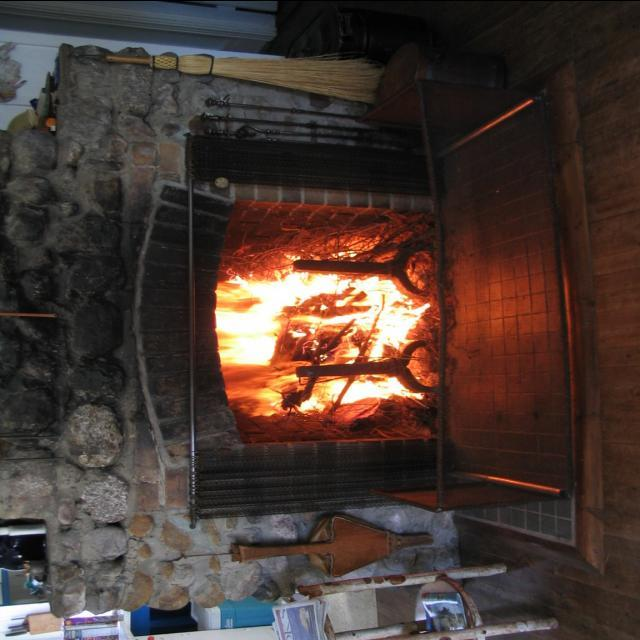Fire: (215, 238, 431, 422)
